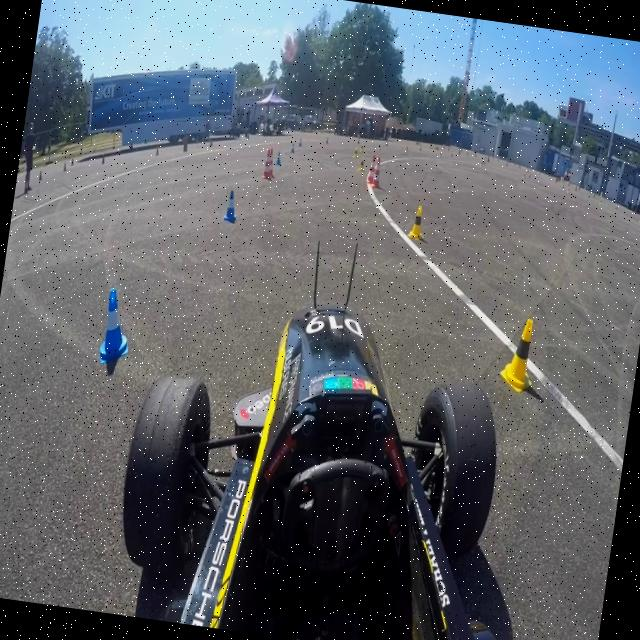blue_cone: (92, 282, 138, 364), (218, 185, 248, 230)
large_orange_cone: (259, 142, 282, 183), (363, 154, 385, 193)
yellow_cone: (496, 306, 544, 406), (401, 195, 432, 248)
